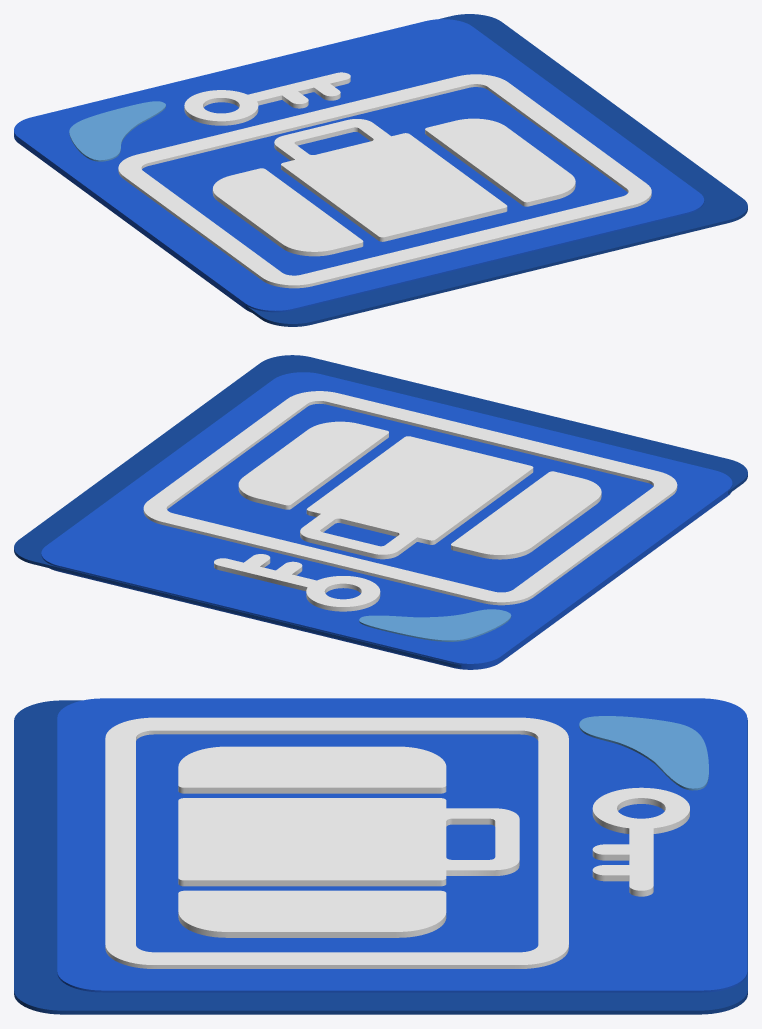
Rendered from emoji_u1f6c5.glb.
The picture shows the model from 3 angles, top to bottom: view 1: azimuth 30°, elevation 25°; view 2: azimuth 150°, elevation 25°; view 3: azimuth 270°, elevation 25°; orthographic projection. The views are drawn at different scales.
Visible parts, largest first — view 1: emoji_u1f6c5; view 2: emoji_u1f6c5; view 3: emoji_u1f6c5.
Part boxes in pixels (left/top/right/bottom): emoji_u1f6c5: left=14, top=14, right=747, bottom=326; emoji_u1f6c5: left=14, top=355, right=747, bottom=669; emoji_u1f6c5: left=14, top=698, right=747, bottom=1014.
Size of the model in its own units: 0.0339 by 0.001 by 0.0339.
